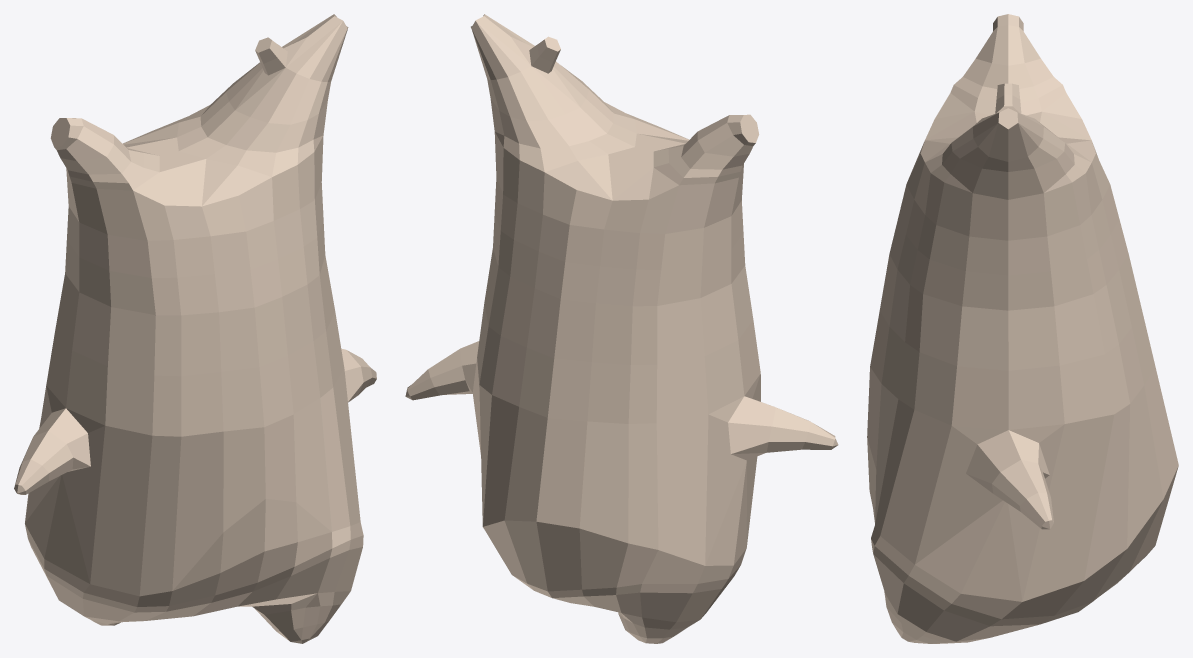
Rendered from frame_0004.obj.
The picture shows the model from 3 angles, left to right: view 1: azimuth 30°, elevation 25°; view 2: azimuth 150°, elevation 25°; view 3: azimuth 270°, elevation 25°; orthographic projection. The views are drawn at different scales.
Visible parts, largest first — view 1: korok; view 2: korok; view 3: korok.
Boxes of the visible parts, x1,y1,x2,y2 form: korok: [14, 14, 376, 643]; korok: [405, 14, 838, 643]; korok: [867, 14, 1178, 643].
Size of the model in its own units: 1.56 by 2.15 by 1.05.
